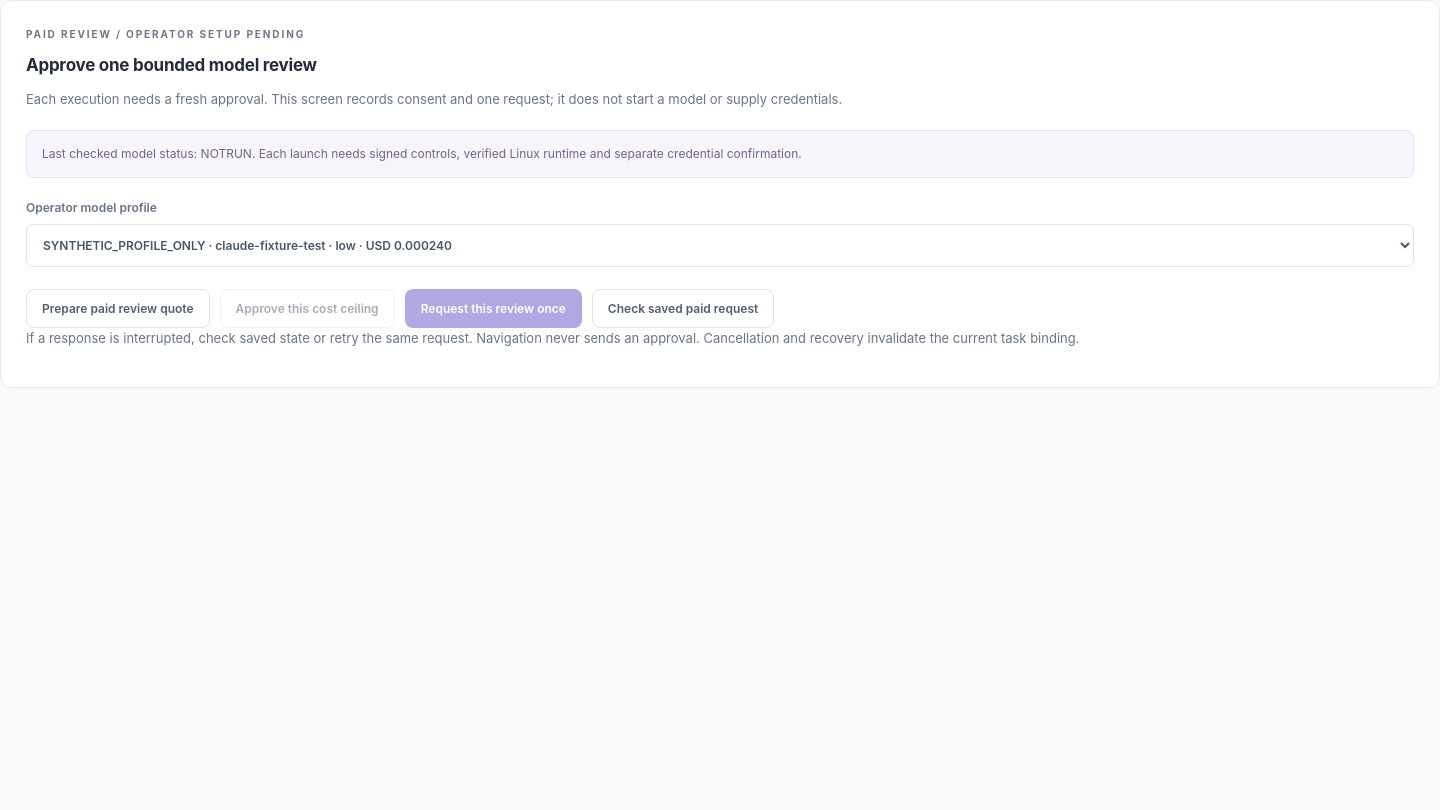
records fixed consent and one explicit request, with double-click and navigation having no extra effects
Click the button "Prepare paid review quote". click: coordinates (118, 308)
box: [26,289,210,328]
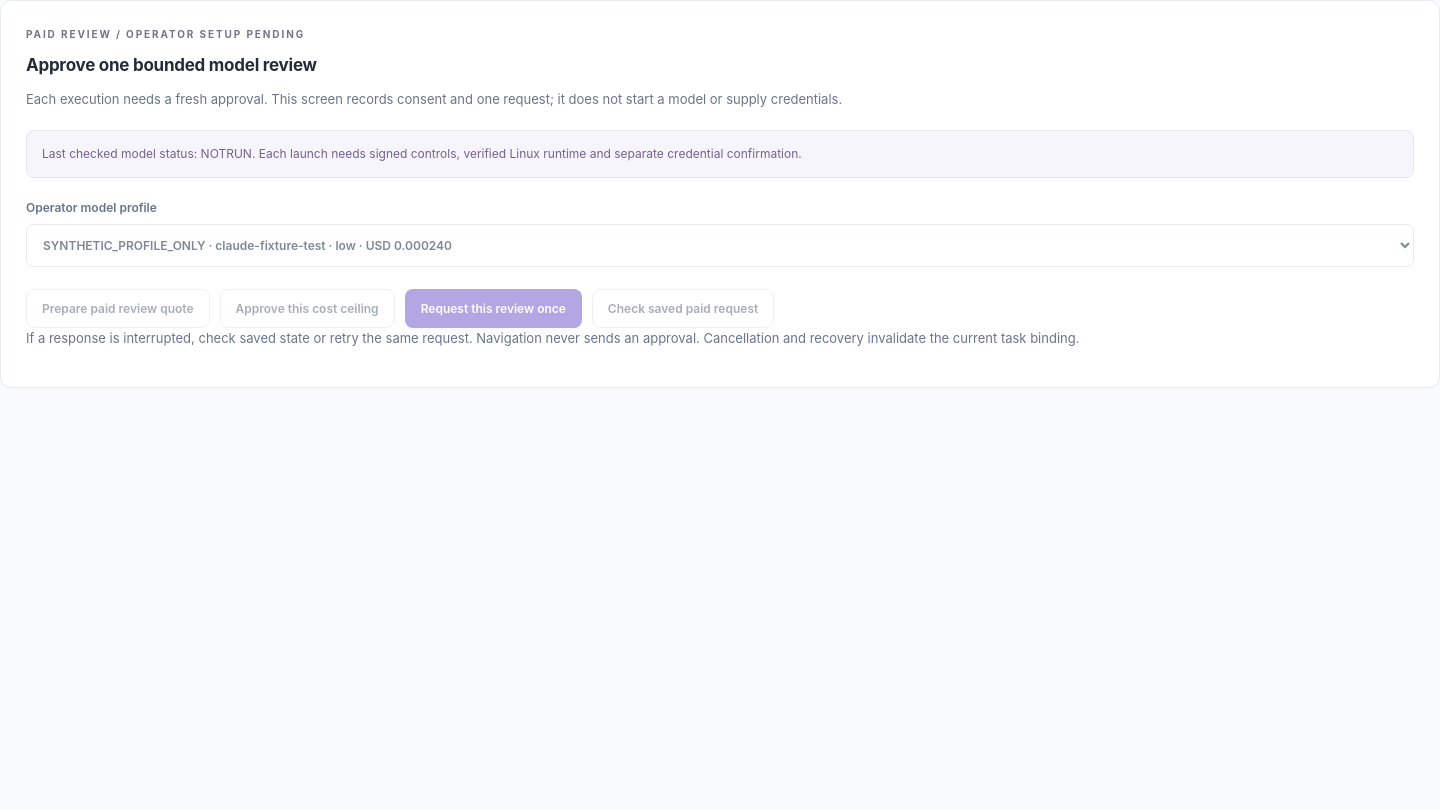
Click the button "Prepare paid review quote". click: coordinates (118, 308)
box: [26,289,210,328]
(page scrolled)
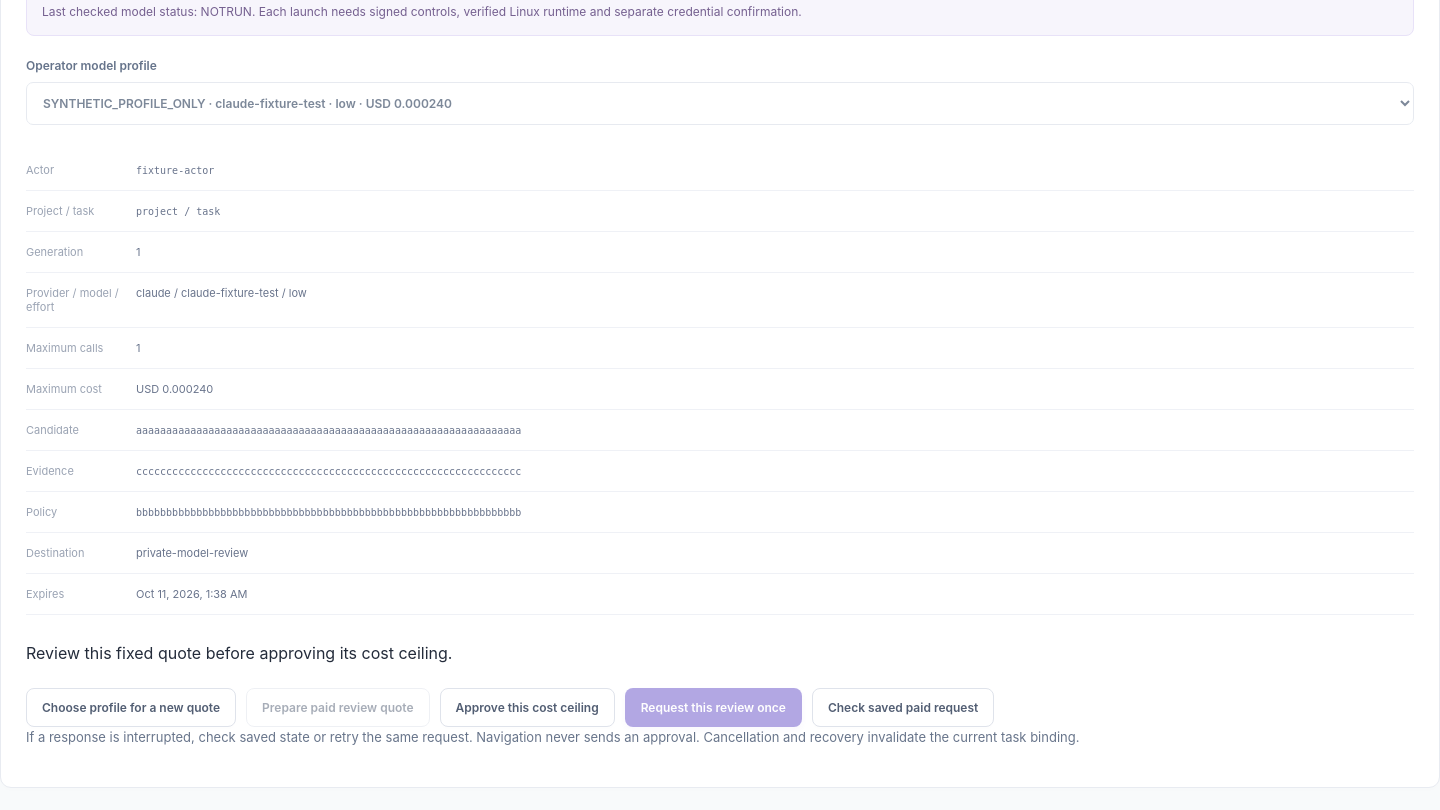
expect the button "Approve this cost ceiling" is enabled: met
expect the text "USD 0.000240" is shown: met, box [136,382,213,396]
expect the text "claude / claude-fixture-test / low" is shown: met, box [136,286,307,300]
Click the button "Approve this cost ceiling". click: coordinates (527, 708)
box: [440,688,615,727]
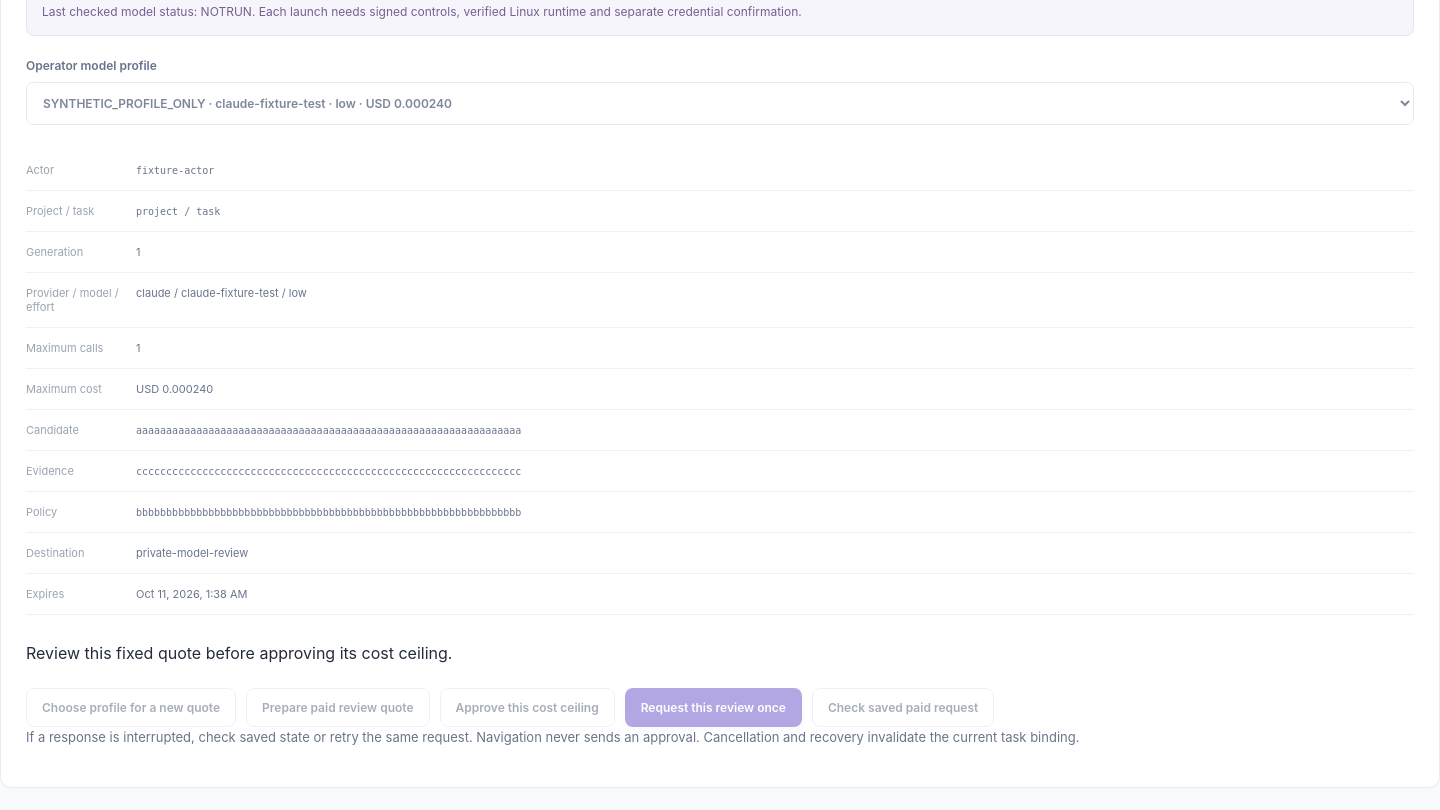
Click the button "Approve this cost ceiling". click: coordinates (527, 708)
box: [440,688,615,727]
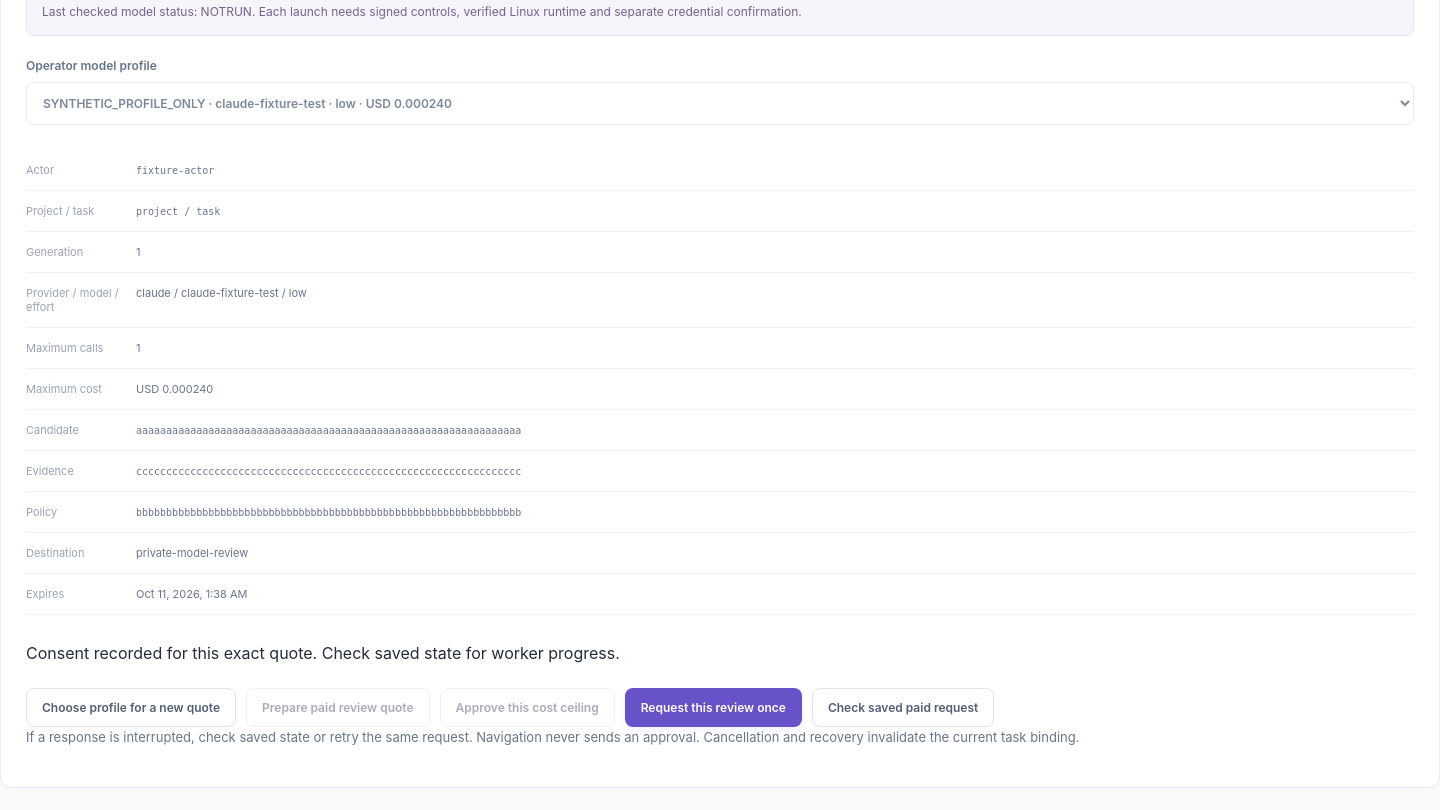
expect the button "Request this review once" is enabled: met
Click the button "Request this review once". click: coordinates (713, 708)
box: [625,688,802,727]
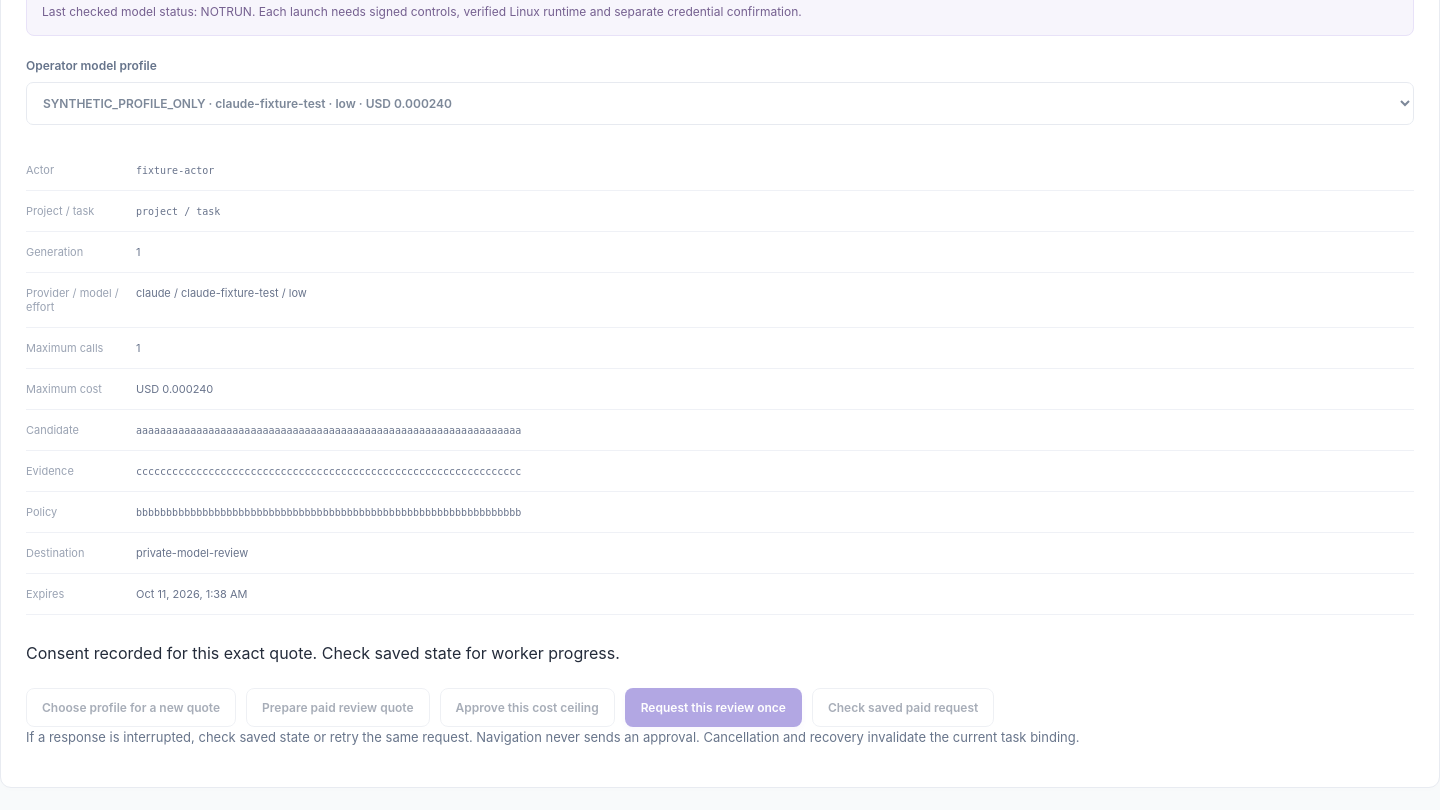
Click the button "Request this review once". click: coordinates (713, 708)
box: [625,688,802,727]
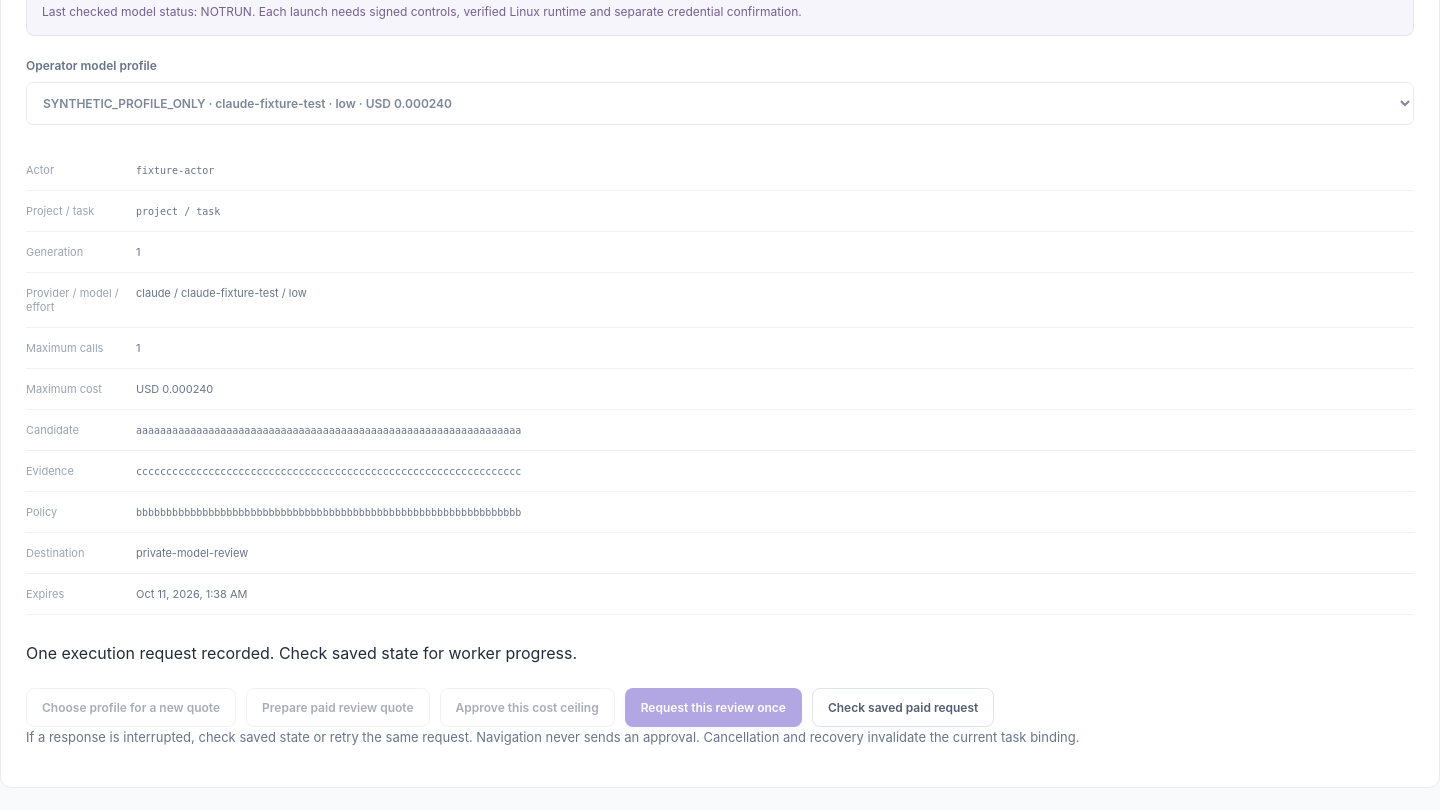
expect the text "One execution request recorded. Check saved state for worker progress." is shown: met, box [26,643,577,663]
